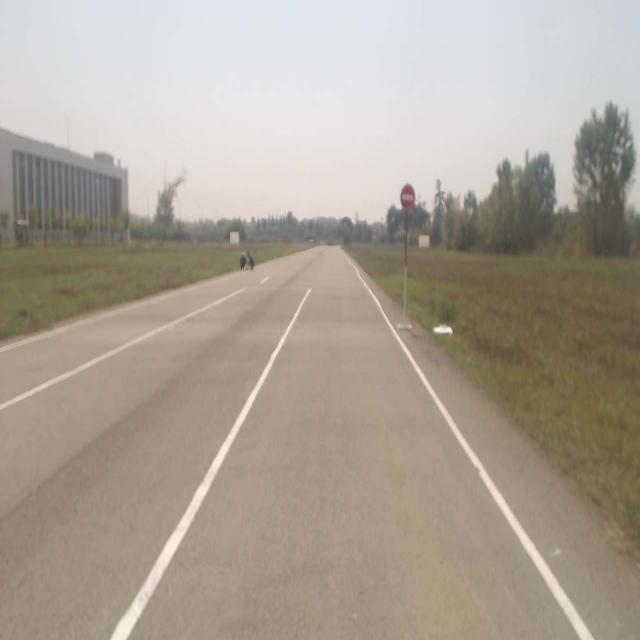girisyok: (401, 184, 415, 210)
